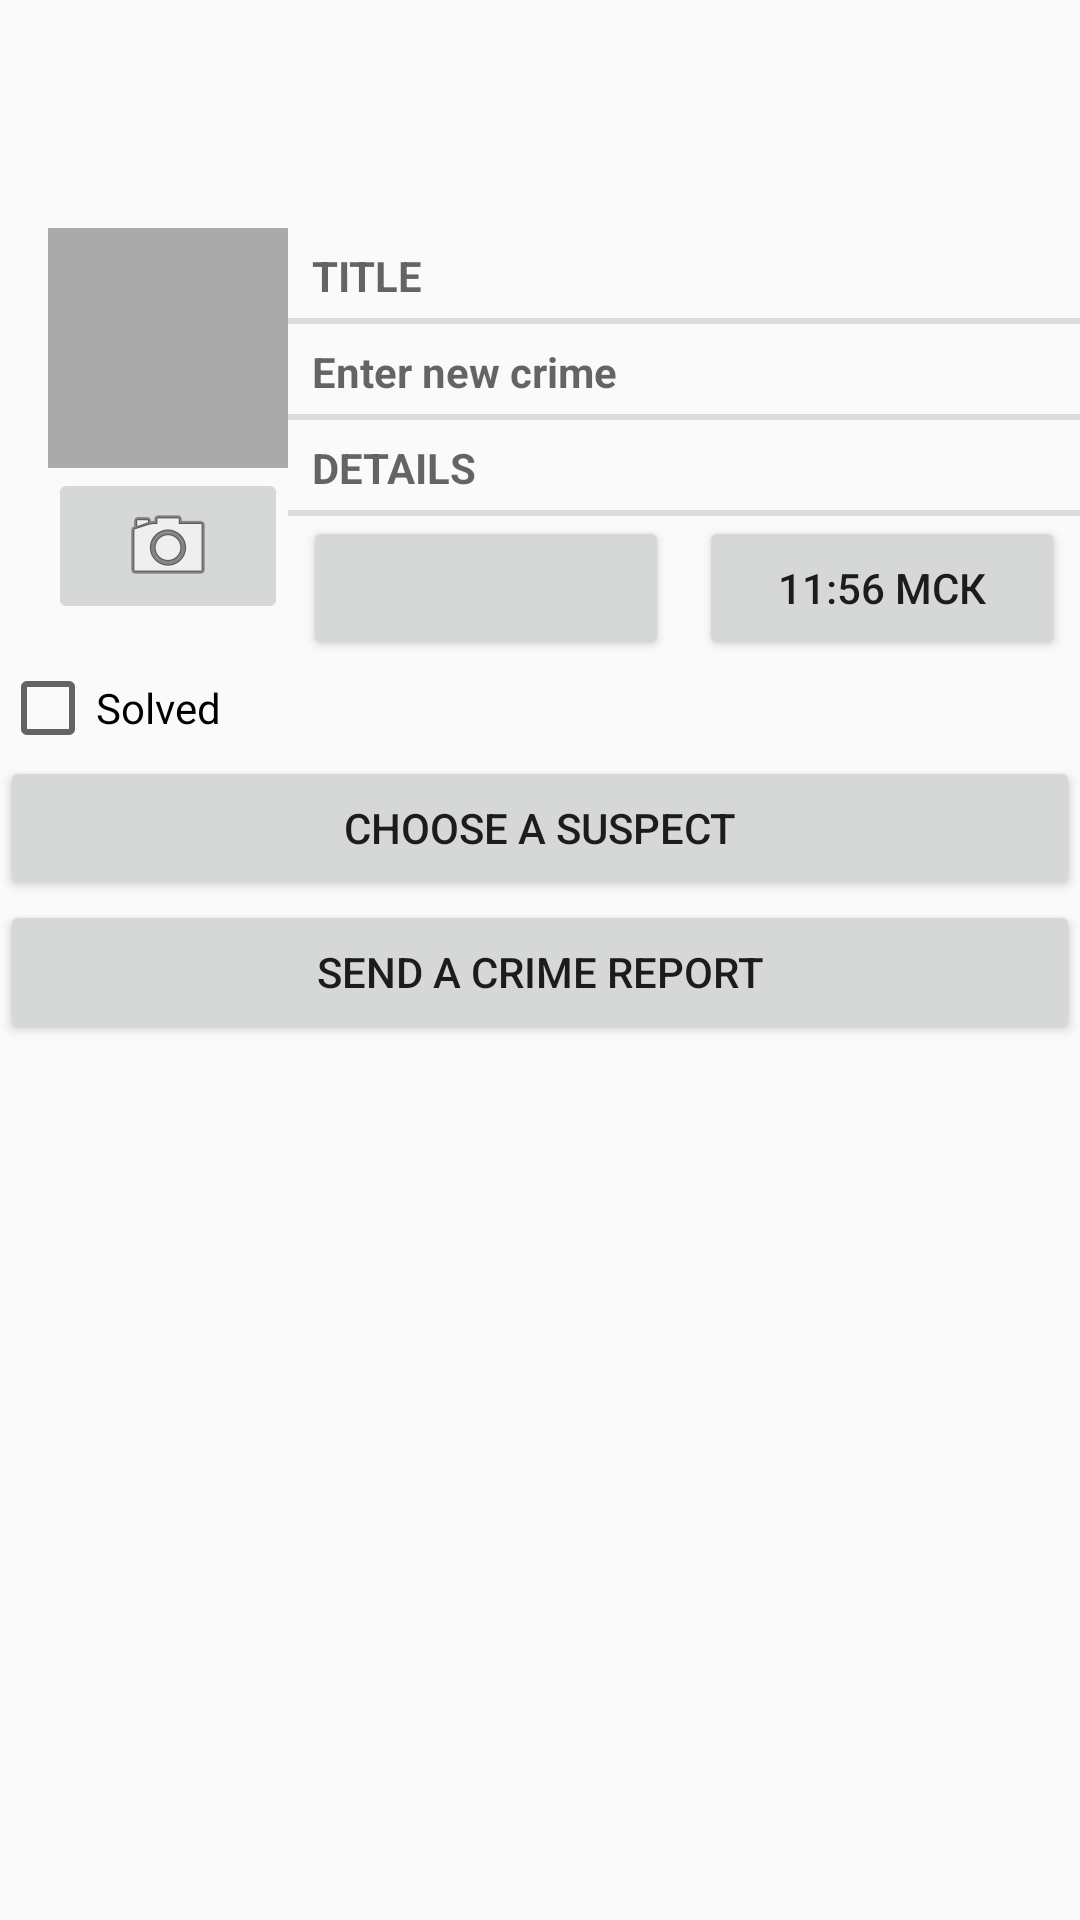

Locate icon controls on the screen. Image size 1080px x 1920px, boxes as {"x1": x1, "y1": y1, "x2": x2, "y2": y2}.
Take photo of crime scene: {"x1": 60, "y1": 486, "x2": 276, "y2": 606}
